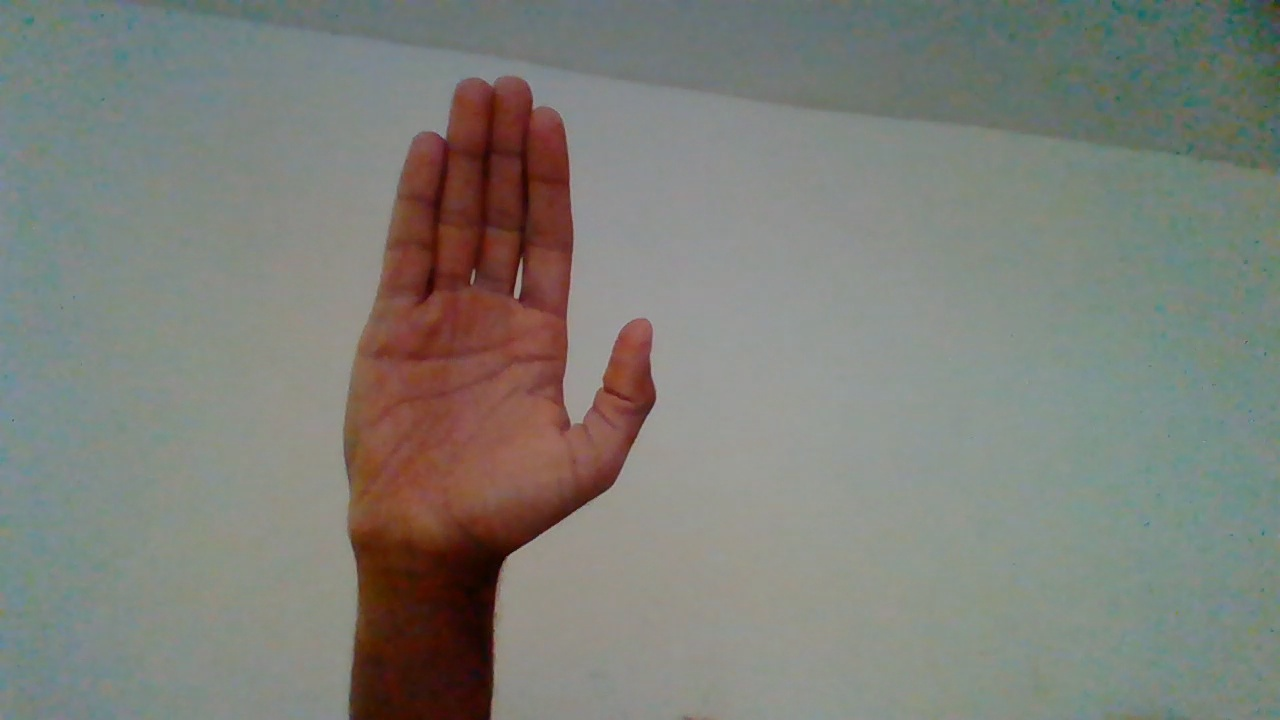ha: (345, 73, 657, 618)
